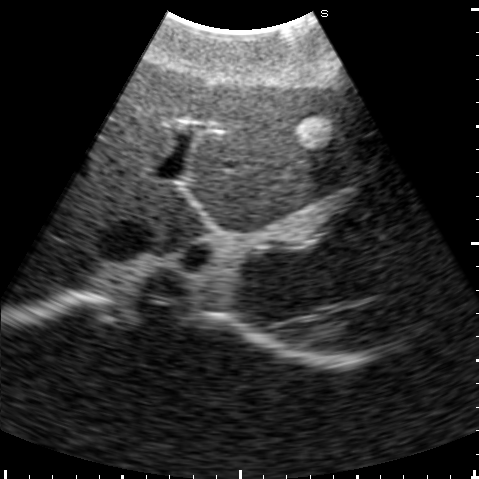IVC: (93, 218, 155, 260)
S1: (149, 186, 211, 253)
S2: (187, 142, 382, 233)
S3: (191, 74, 377, 198)
Tumor: (294, 116, 333, 150)
